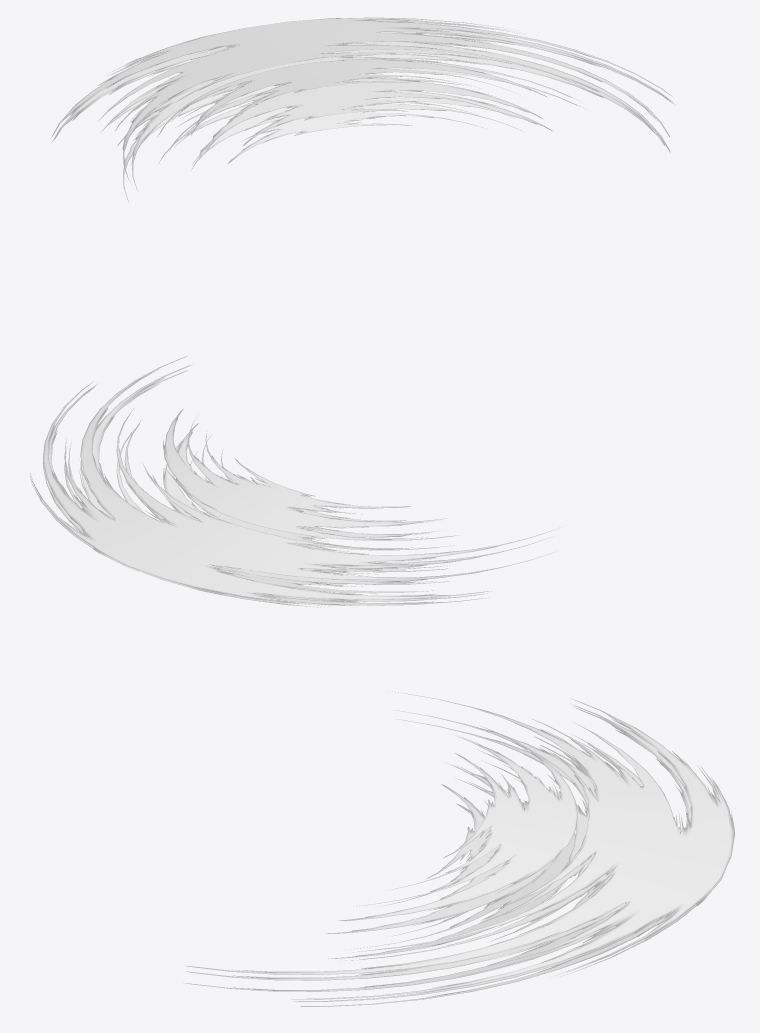
Rendered from eff_zan001_mesh.fbx.
3 renders of one model, top to bottom at view 1: azimuth 30°, elevation 25°; view 2: azimuth 150°, elevation 25°; view 3: azimuth 270°, elevation 25°, orthographic. The views are drawn at different scales.
Parts seen in each view (by area): view 1: eff_zan001_mesh; view 2: eff_zan001_mesh; view 3: eff_zan001_mesh.
Part boxes in pixels (bbox=[...]): eff_zan001_mesh: bbox=[51, 17, 674, 201]; eff_zan001_mesh: bbox=[30, 356, 562, 607]; eff_zan001_mesh: bbox=[183, 691, 734, 1006].
Bounding box in the file's own units: 825 × 55.45 × 679.
